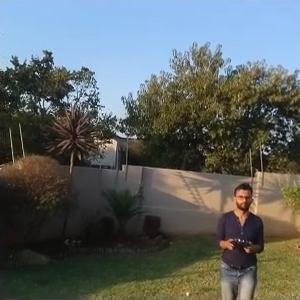follow: (215, 176, 271, 298)
